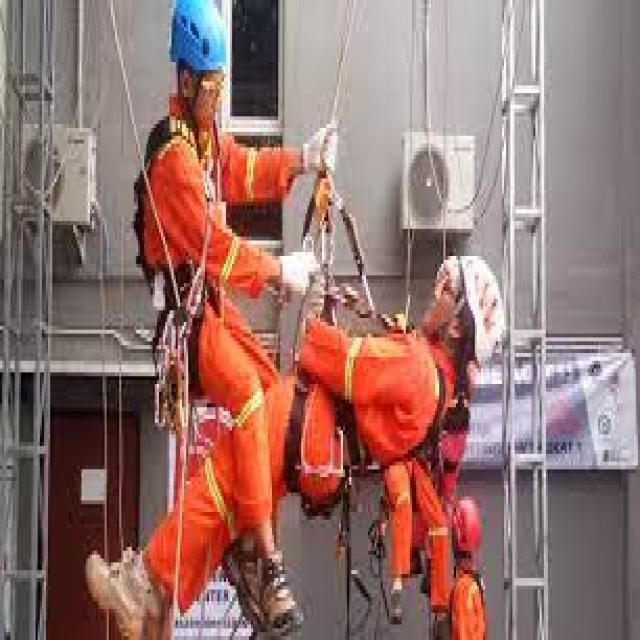shoes: (84, 539, 163, 640), (259, 548, 305, 640), (223, 538, 265, 629)
